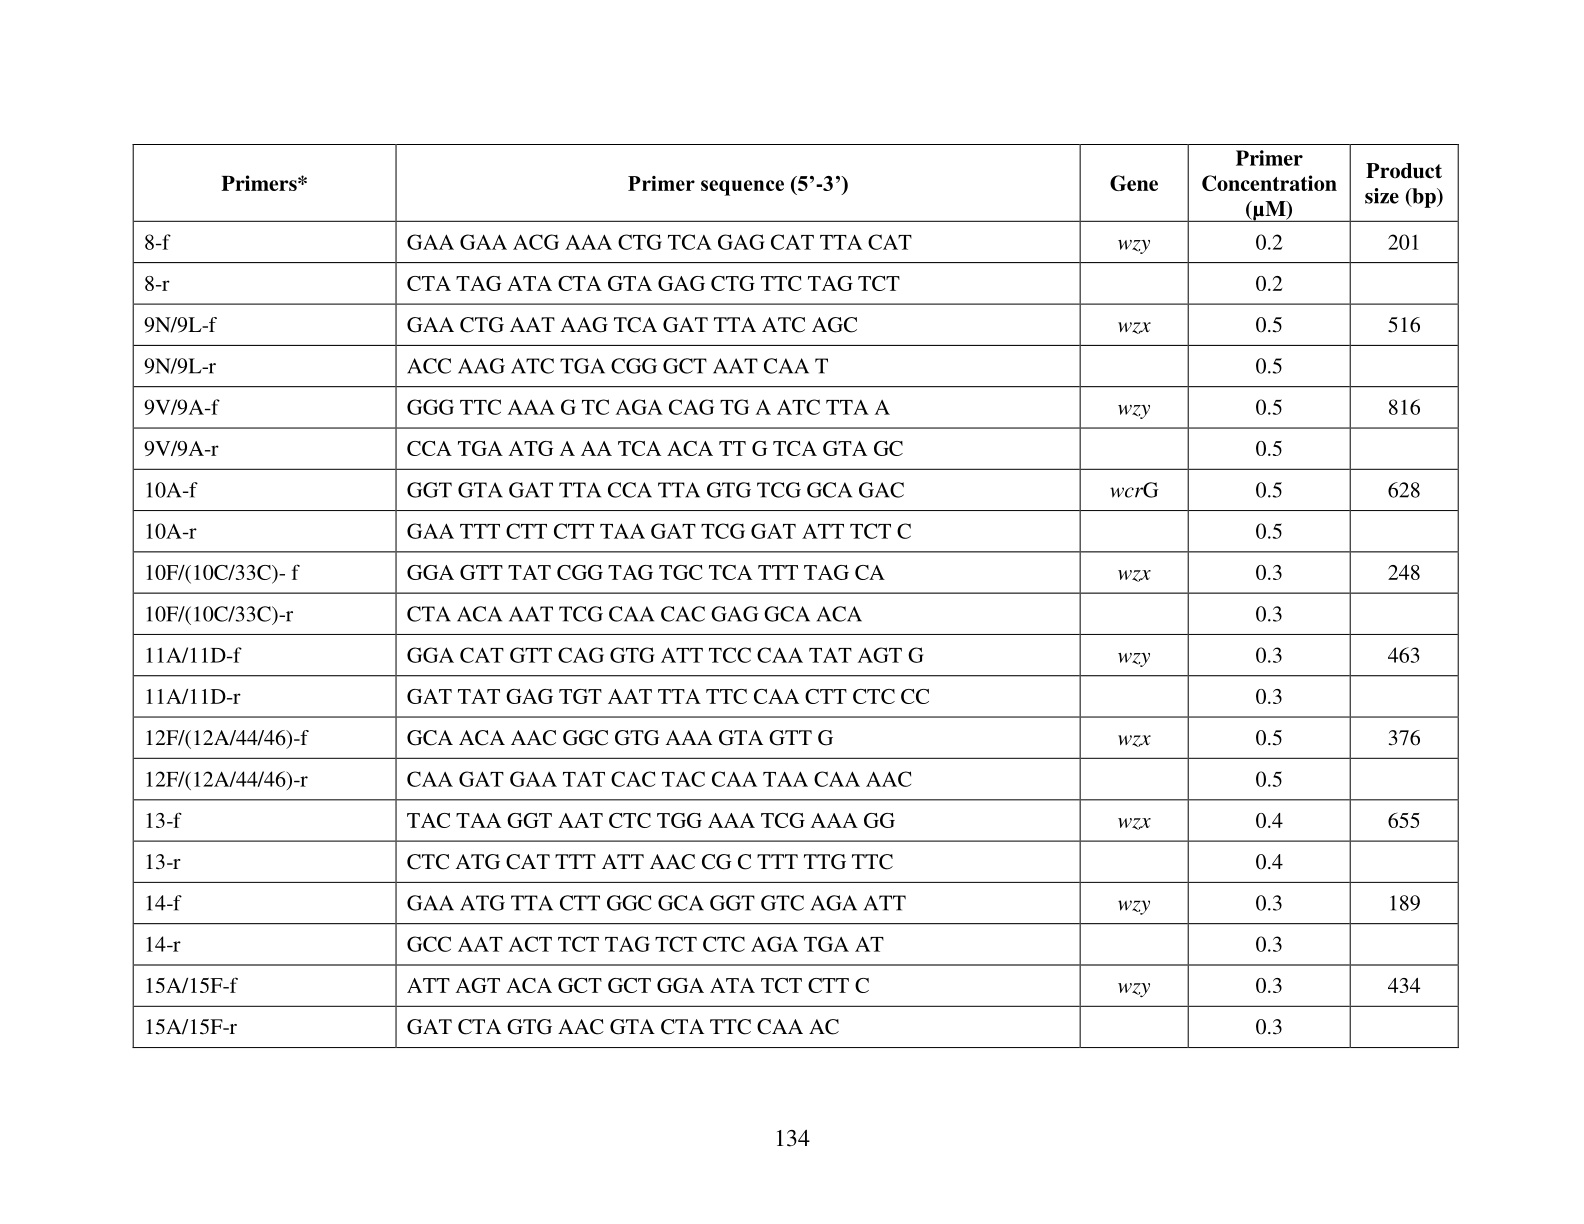full_lined: (132, 143, 1461, 1049)
